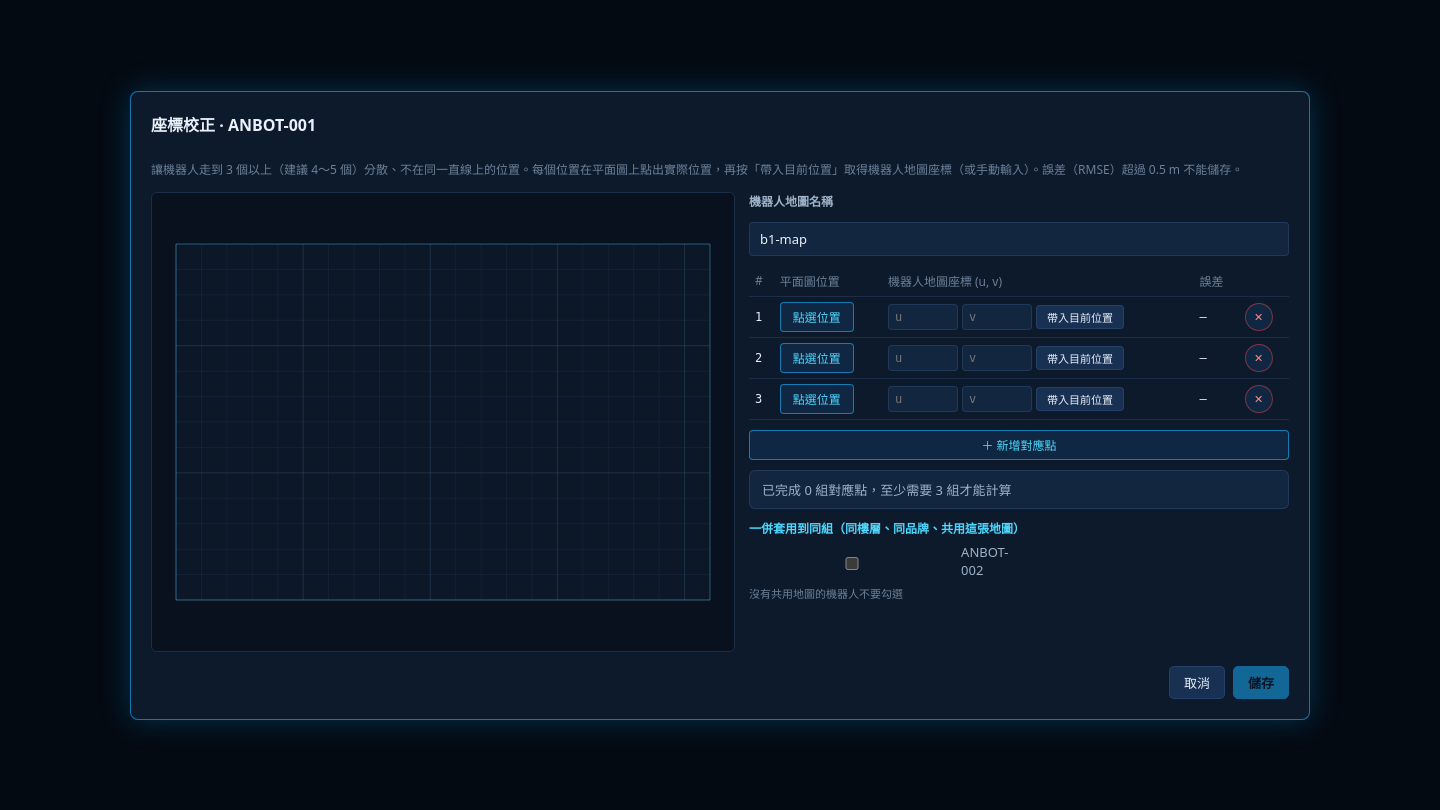
Test case: 座標校正精靈（T-26） › 帶入目前位置：讀取機器人地圖座標
Expected: the field showing "b1-map" is shown, x1=749 y1=222 x2=1289 y2=256
Click the 1st button "帶入目前位置" at (1080, 316), box x1=1036 y1=304 x2=1124 y2=328
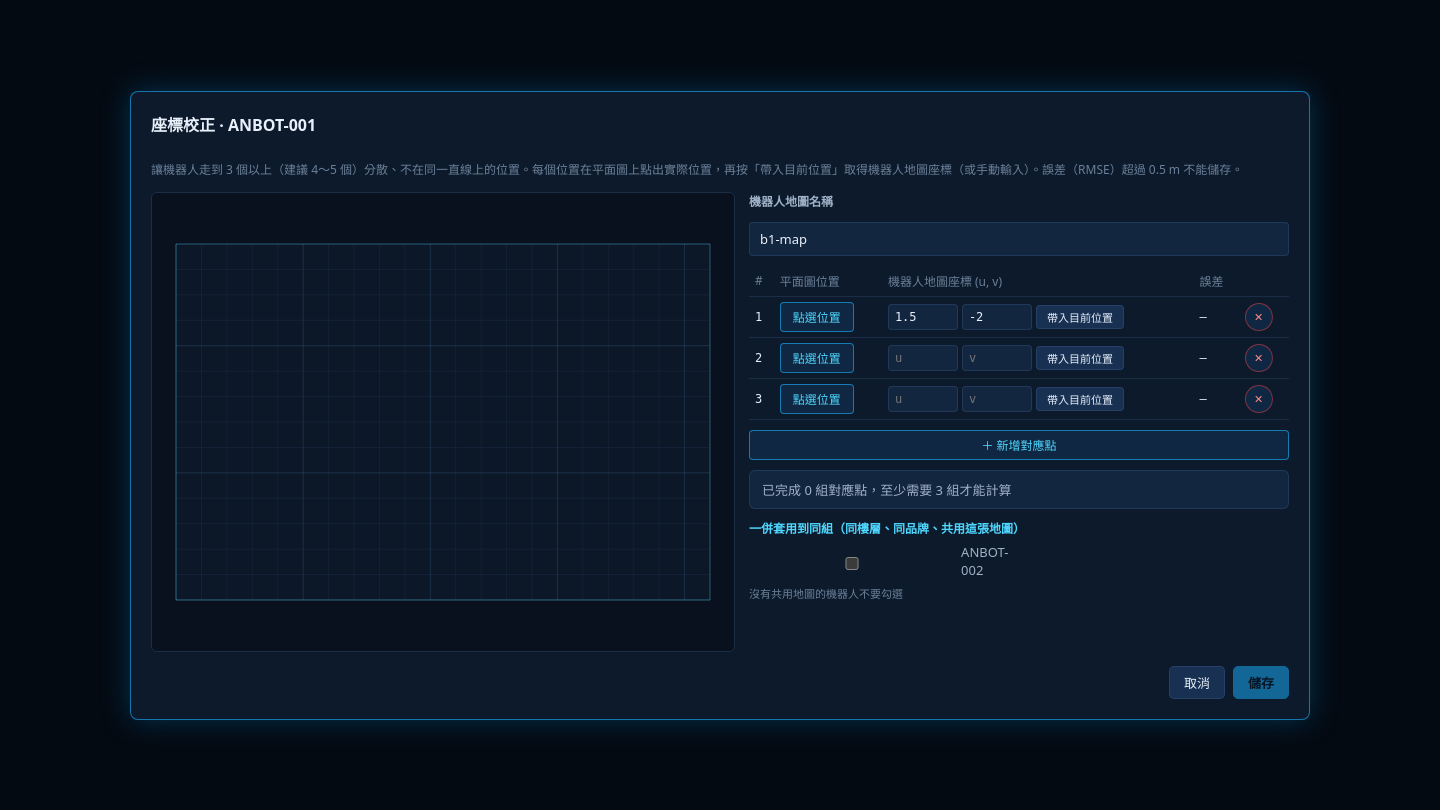
Expected: the field named "第 1 點 u" holds "1.5", x1=888 y1=304 x2=958 y2=330
Expected: the field named "第 1 點 v" holds "-2", x1=962 y1=304 x2=1032 y2=330
